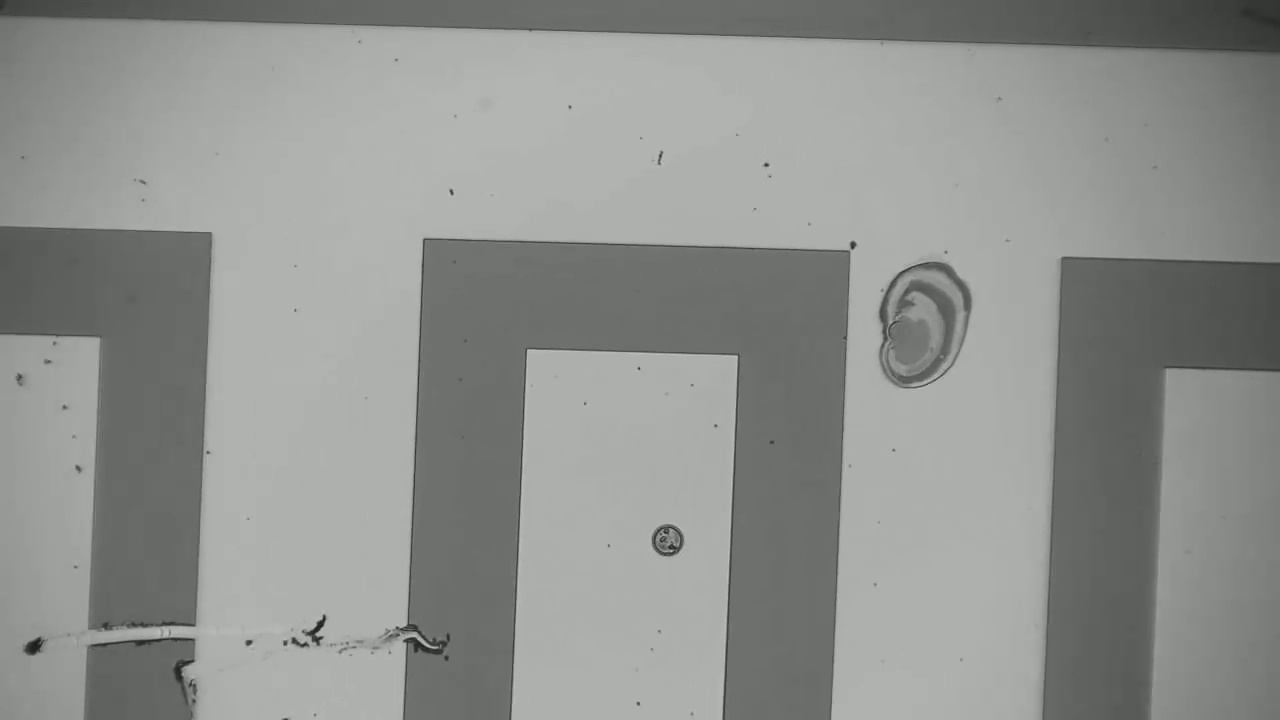Short_circuit: (59, 605, 222, 667)
